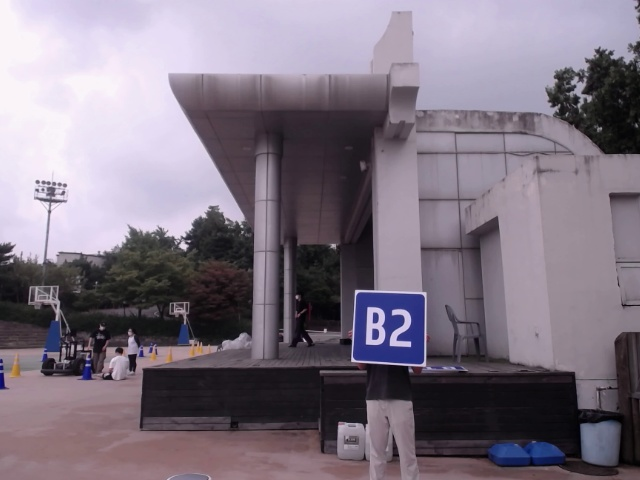delivery_b2: (354, 291, 424, 364)
